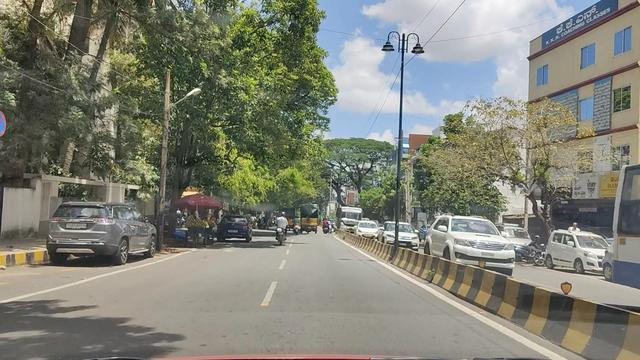LMV: (41, 200, 120, 254), (219, 217, 255, 241), (272, 213, 292, 243)
